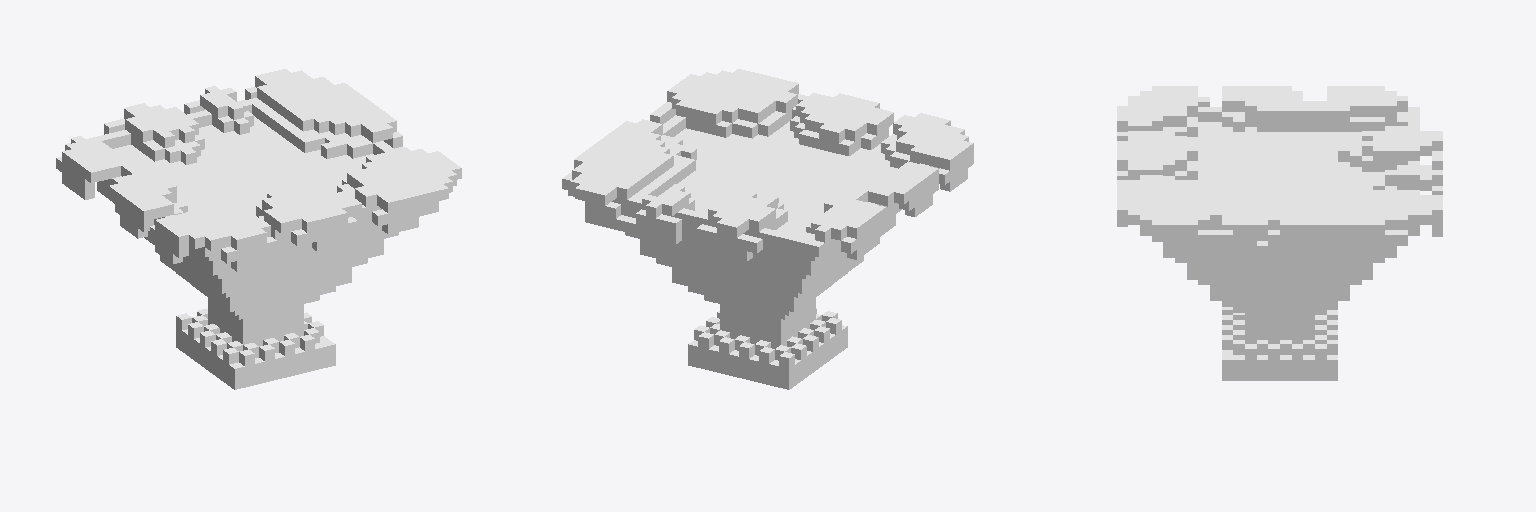
The model's file is pieprznik_jadalny.obj.
3 views of the same model, side by side, from view 1: azimuth 30°, elevation 25°; view 2: azimuth 150°, elevation 25°; view 3: azimuth 270°, elevation 25° (orthographic).
Size of the model in its own units: 28 by 19 by 28.